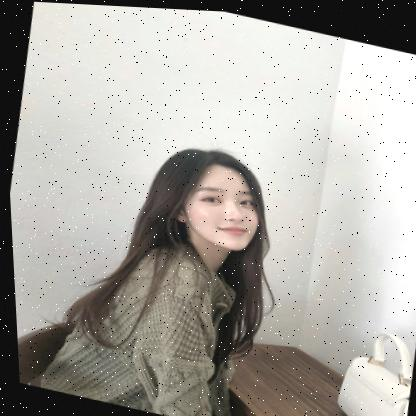person: (146, 138, 270, 261)
